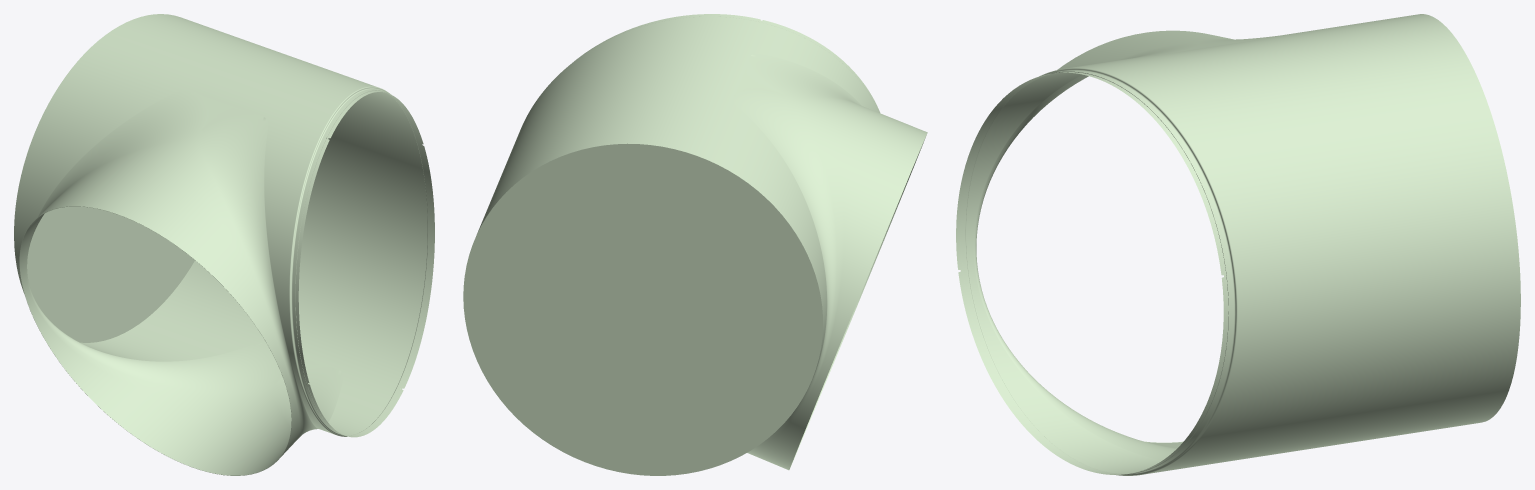
File: Joint_2_1.fbx
3 views of the same model, side by side, from view 1: azimuth 30°, elevation 25°; view 2: azimuth 150°, elevation 25°; view 3: azimuth 270°, elevation 25° (orthographic). The views are drawn at different scales.
Visible parts, largest first — view 1: Joint_2.014_HP; view 2: Joint_2.014_HP; view 3: Joint_2.014_HP.
Boxes of the visible parts, x1,y1,x2,y2 form: Joint_2.014_HP: (14, 14, 434, 475); Joint_2.014_HP: (463, 14, 927, 475); Joint_2.014_HP: (956, 14, 1520, 475).
Size of the model in its own units: 18.71 by 17.29 by 20.5.
